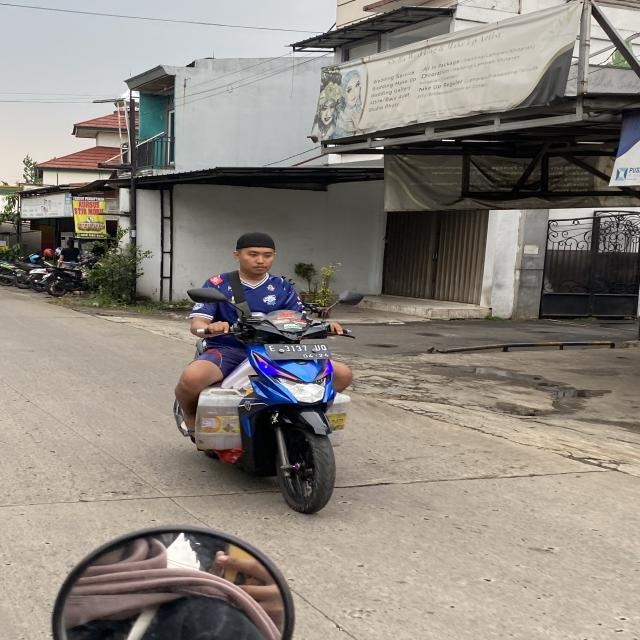Helmet: (28, 253, 40, 263), (43, 248, 54, 258), (55, 247, 62, 257)
Number Plate: (264, 342, 330, 359)
Rearview Mirror: (53, 527, 293, 639), (187, 288, 227, 302), (338, 291, 363, 304)
